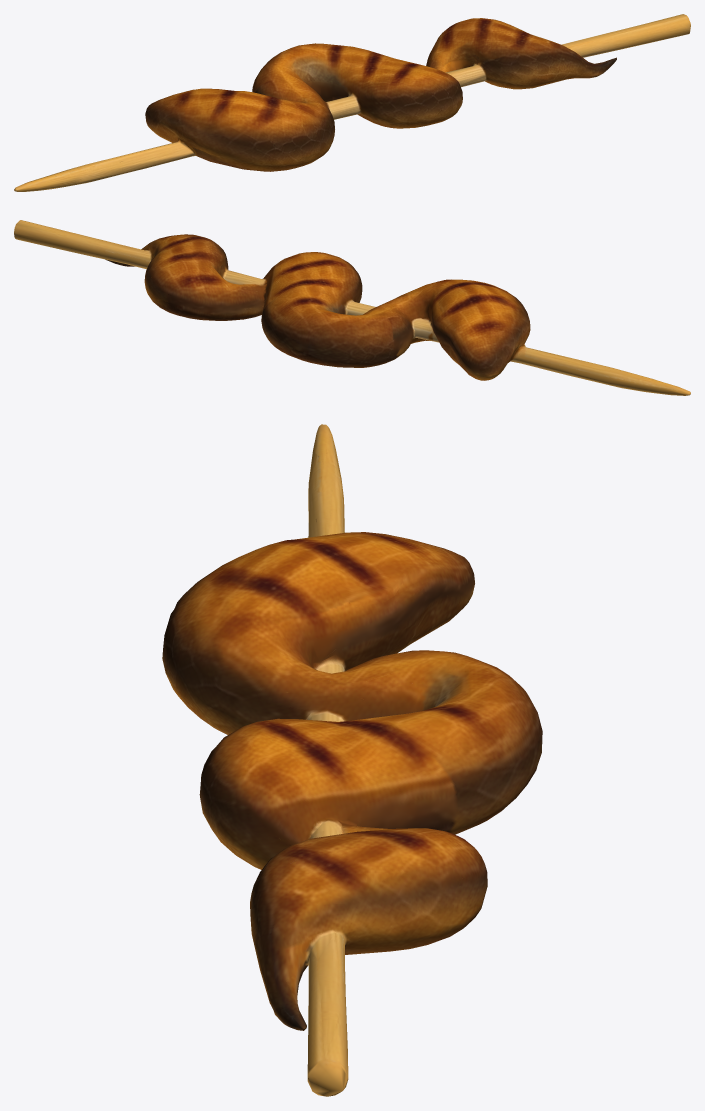
Rendered from Eel_Skewer.fbx.
The picture shows the model from 3 angles, top to bottom: view 1: azimuth 30°, elevation 25°; view 2: azimuth 150°, elevation 25°; view 3: azimuth 270°, elevation 25°; orthographic projection. The views are drawn at different scales.
Visible parts, largest first — view 1: Eel_Skewer; view 2: Eel_Skewer; view 3: Eel_Skewer.
Part boxes in pixels (<box>): Eel_Skewer: <box>14,14,690,191</box>; Eel_Skewer: <box>14,220,690,395</box>; Eel_Skewer: <box>162,424,542,1096</box>.
Bounding box in the file's own units: 1.9 × 0.1799 × 0.4661.
1 material, 1 textured.
